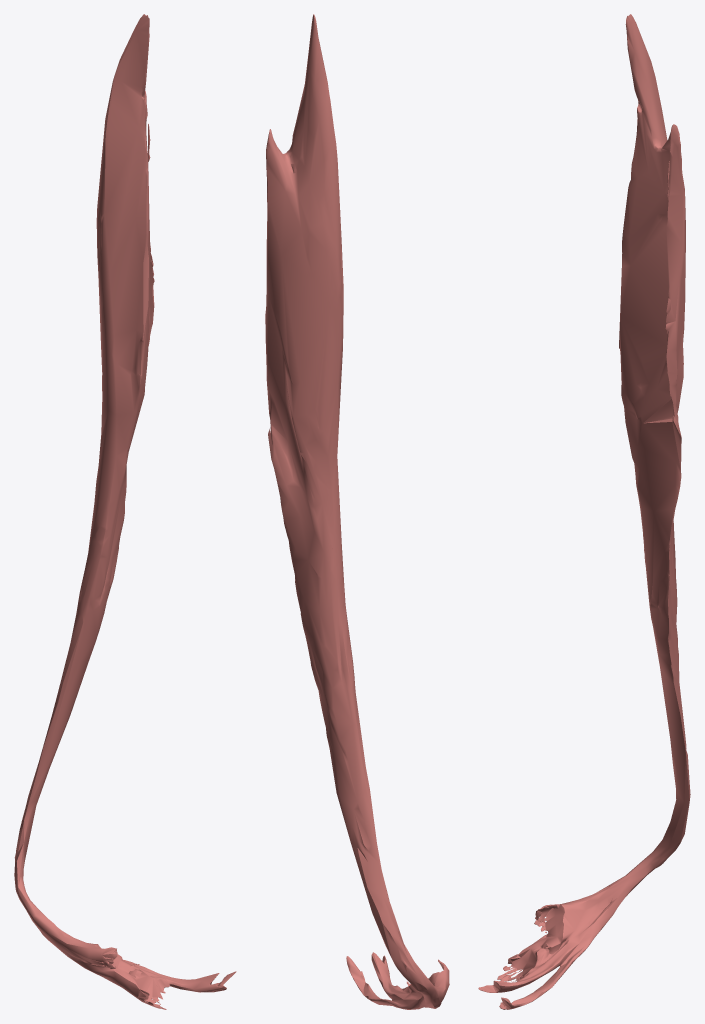
The model's file is fma65019_fj1440m.glb.
3 views of the same model, side by side, from view 1: azimuth 30°, elevation 25°; view 2: azimuth 150°, elevation 25°; view 3: azimuth 270°, elevation 25° (orthographic). The views are drawn at different scales.
Parts seen in each view (by area): view 1: FMA65019_FJ1440M; view 2: FMA65019_FJ1440M; view 3: FMA65019_FJ1440M.
Part boxes in pixels (box(x1,y1,x2,y2)): FMA65019_FJ1440M: box(14, 14, 236, 1009); FMA65019_FJ1440M: box(265, 14, 449, 1009); FMA65019_FJ1440M: box(478, 14, 690, 1009).
Size of the model in its own units: 0.0622 by 0.3783 by 0.0734.
